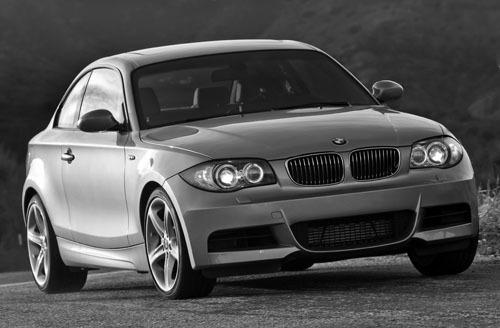car: (21, 38, 481, 299)
